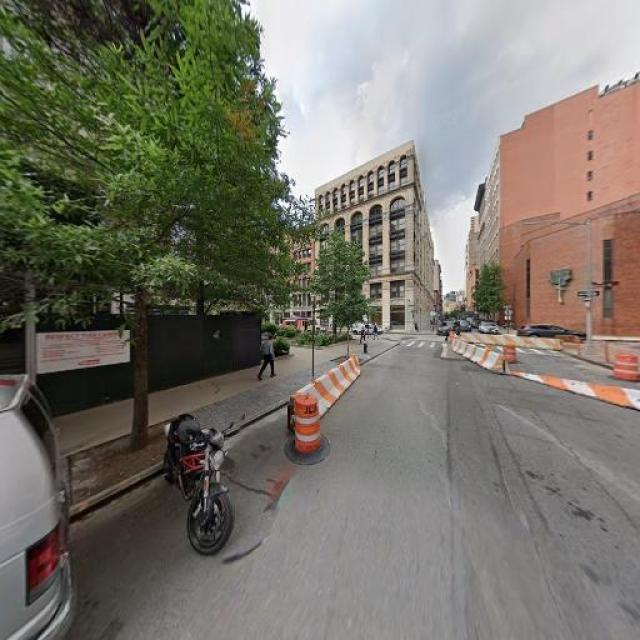Building: (1, 1, 263, 432), (472, 75, 640, 340), (317, 133, 424, 333)
